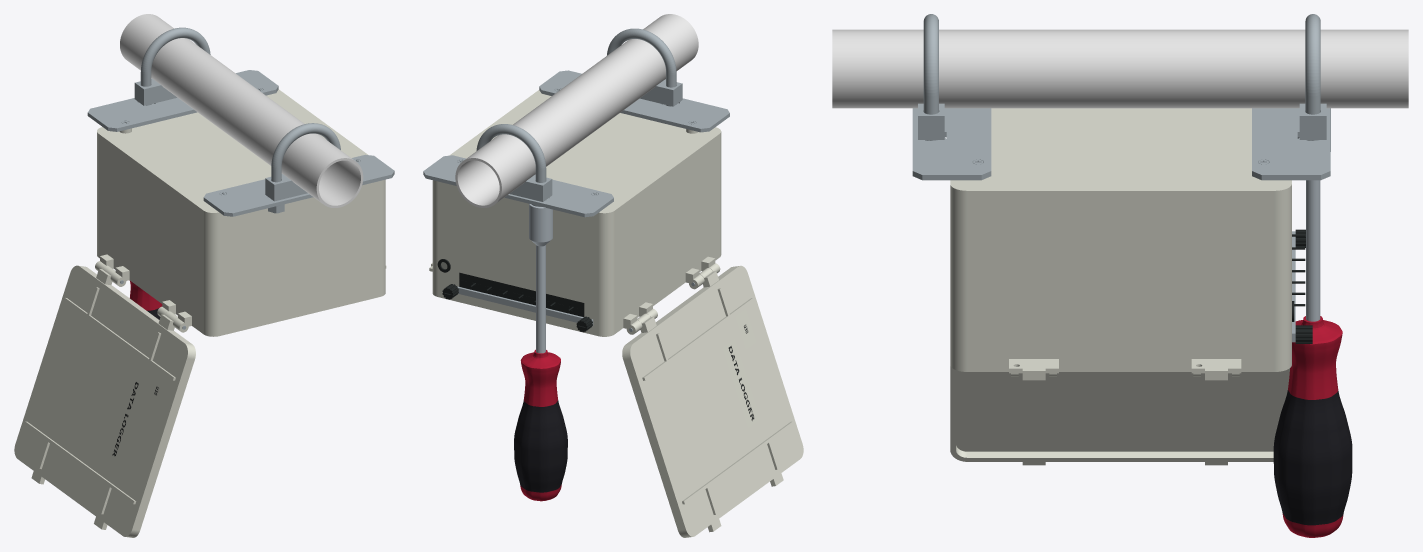
File: wiha_34143_u30_1_fit.glb
3 renders of one model, left to right at view 1: azimuth 30°, elevation 25°; view 2: azimuth 150°, elevation 25°; view 3: azimuth 270°, elevation 25°, orthographic. The views are drawn at different scales.
Visible parts, largest first — view 1: outer_case, hinged_door, selected_mast_fixture, mount_1_plate, mount_2_plate, device_text, mount_1_u_bolt, mount_2_u_bolt, mount_1_saddle, mount_2_saddle, tool_red_molded_core; view 2: outer_case, hinged_door, selected_mast_fixture, tool_black_soft_grip, mount_2_plate, mount_1_plate, tool_red_molded_core, tool_steel_shaft_and_blind_socket, primary_split_rubber_channel, device_text, mount_1_u_bolt, mount_2_u_bolt (+3 smaller); view 3: outer_case, selected_mast_fixture, hinged_door, tool_black_soft_grip, mount_2_plate, mount_1_plate, tool_red_molded_core, tool_steel_shaft_and_blind_socket, mount_1_u_bolt, mount_2_u_bolt, latch_clasp_1, latch_clasp_2 (+2 smaller).
Boxes of the visible parts, box(x1,y1,x2,y2) form: outer_case: box(95, 89, 385, 336); hinged_door: box(14, 265, 195, 537); selected_mast_fixture: box(120, 14, 363, 207); mount_1_plate: box(87, 70, 278, 131); mount_2_plate: box(203, 154, 394, 216); device_text: box(107, 375, 144, 462); mount_1_u_bolt: box(140, 27, 210, 105); mount_2_u_bolt: box(271, 123, 340, 213); mount_1_saddle: box(134, 78, 177, 105); mount_2_saddle: box(265, 174, 307, 201); tool_red_molded_core: box(129, 280, 162, 310); outer_case: box(432, 90, 721, 336); hinged_door: box(622, 265, 803, 537); selected_mast_fixture: box(455, 14, 698, 207); tool_black_soft_grip: box(514, 400, 567, 492); mount_2_plate: box(539, 70, 729, 132); mount_1_plate: box(423, 155, 613, 217); tool_red_molded_core: box(520, 349, 561, 501); tool_steel_shaft_and_blind_socket: box(529, 203, 552, 353); primary_split_rubber_channel: box(459, 272, 584, 316); device_text: box(723, 339, 759, 427); mount_1_u_bolt: box(476, 124, 546, 182); mount_2_u_bolt: box(607, 28, 676, 106); outer_case: box(950, 108, 1291, 371); selected_mast_fixture: box(832, 29, 1408, 108); hinged_door: box(950, 366, 1289, 465); tool_black_soft_grip: box(1273, 390, 1352, 525); mount_2_plate: box(912, 108, 991, 180); mount_1_plate: box(1252, 108, 1330, 180); tool_red_molded_core: box(1282, 316, 1343, 537); tool_steel_shaft_and_blind_socket: box(1297, 108, 1330, 321); mount_1_u_bolt: box(1305, 14, 1320, 140); mount_2_u_bolt: box(923, 14, 938, 140); latch_clasp_1: box(1191, 359, 1241, 380); latch_clasp_2: box(1009, 359, 1058, 380).
Size of the model in its own units: 0.2489 by 0.3256 by 0.3.
Materials: 27 (6 with a texture image).
